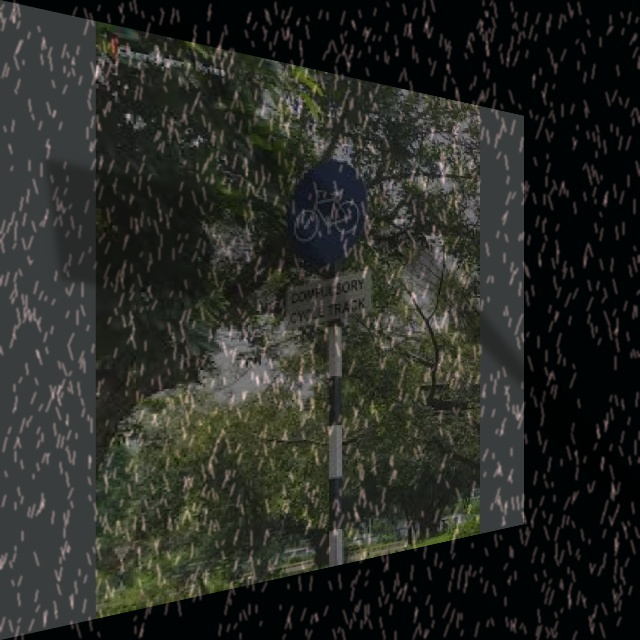Compulsory_Cycle_Track: (282, 153, 376, 267)
